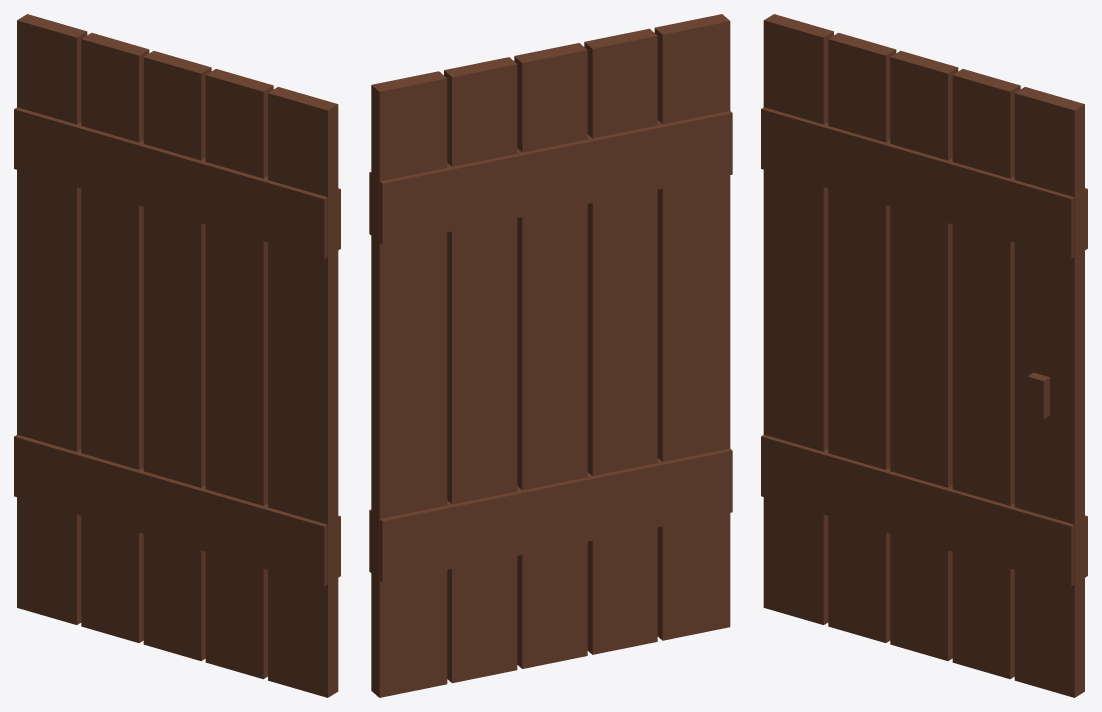
File: door_open.glb
3 renders of one model, left to right at view 1: azimuth 90°, elevation 25°; view 2: azimuth 150°, elevation 25°; view 3: azimuth 270°, elevation 25°, orthographic. The views are drawn at different scales.
Visible parts, largest first — view 1: Door.Open_tcollider; view 2: Door.Open_tcollider; view 3: Door.Open_tcollider.
Boxes of the visible parts, box(x1,y1,x2,y2) form: Door.Open_tcollider: box(14, 14, 340, 697); Door.Open_tcollider: box(369, 14, 732, 697); Door.Open_tcollider: box(761, 14, 1087, 697).
Bounding box in the file's own units: 0.2823 × 0.7714 × 0.3891.
